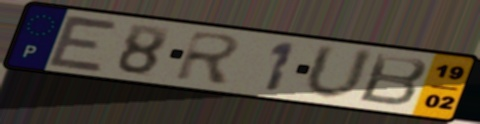1: (267, 41, 297, 94)
8: (113, 23, 171, 77)
B: (355, 51, 432, 108)
E: (44, 12, 123, 75)
R: (171, 29, 246, 86)
U: (301, 41, 378, 103)
